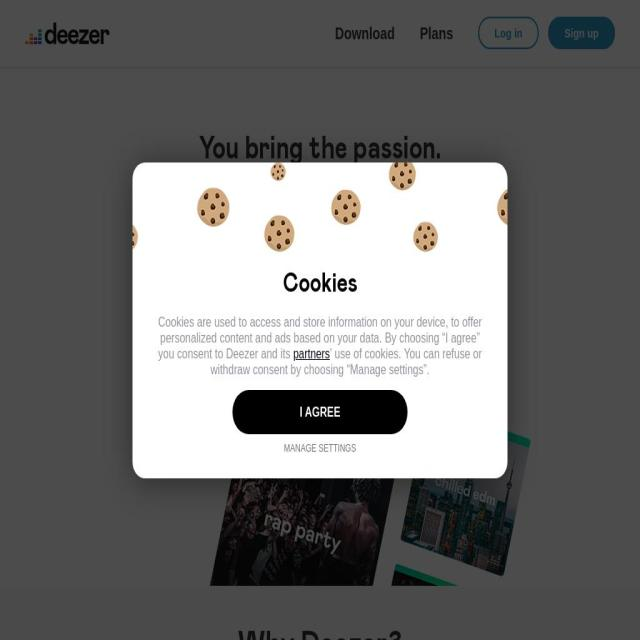button: (232, 390, 408, 434), (152, 434, 488, 455), (328, 258, 466, 302), (175, 258, 312, 302), (548, 17, 615, 49), (25, 21, 109, 46), (478, 17, 539, 49)
heading: (198, 133, 441, 165), (25, 627, 615, 640), (210, 165, 429, 197), (189, 205, 451, 225)
image: (25, 21, 109, 46)
link: (335, 24, 396, 43), (419, 24, 453, 43), (293, 347, 331, 361)
text: (157, 315, 482, 361), (152, 258, 488, 302), (210, 346, 482, 376), (204, 274, 283, 288), (368, 274, 425, 288), (299, 405, 342, 419), (564, 26, 599, 40), (494, 26, 522, 40)
